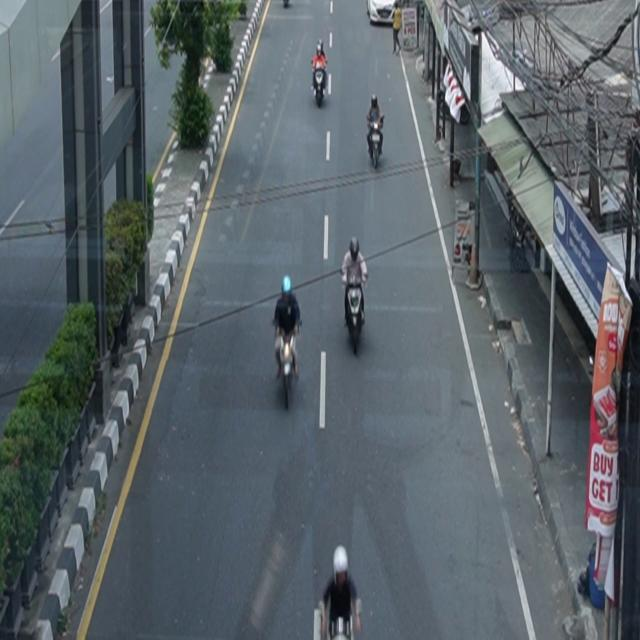car: (368, 1, 399, 26)
